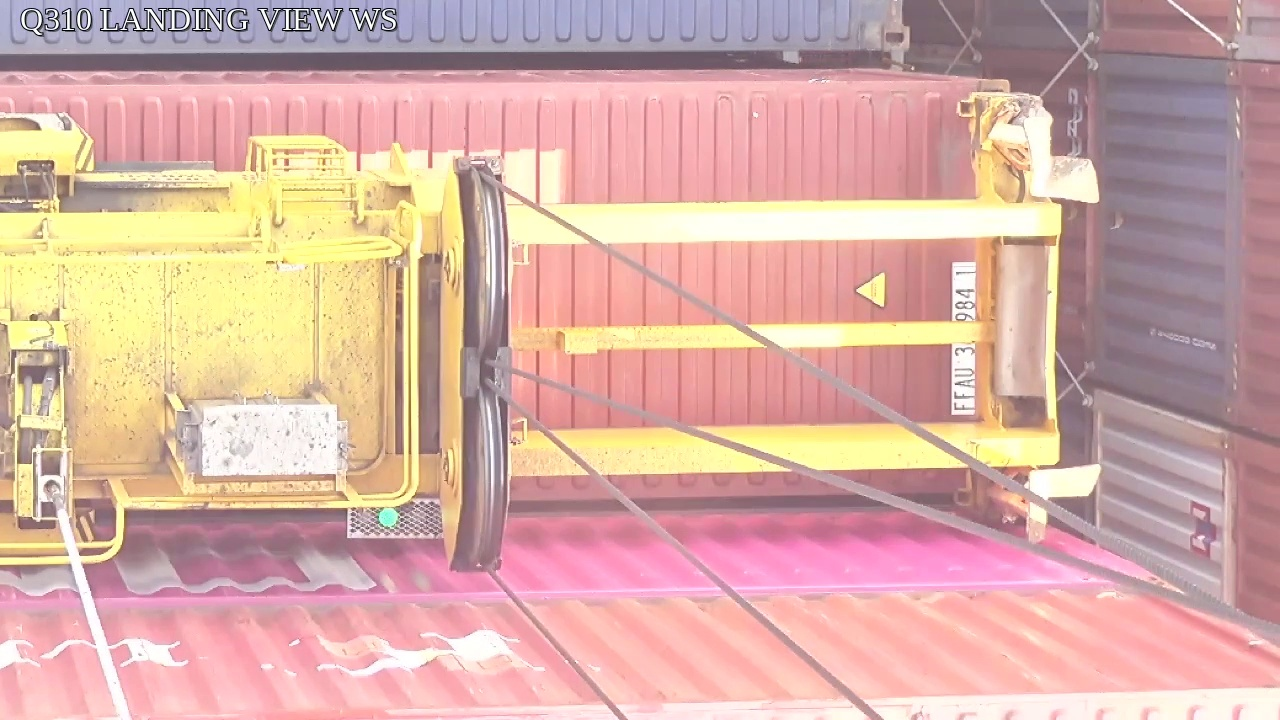right: (436, 155, 515, 576)
